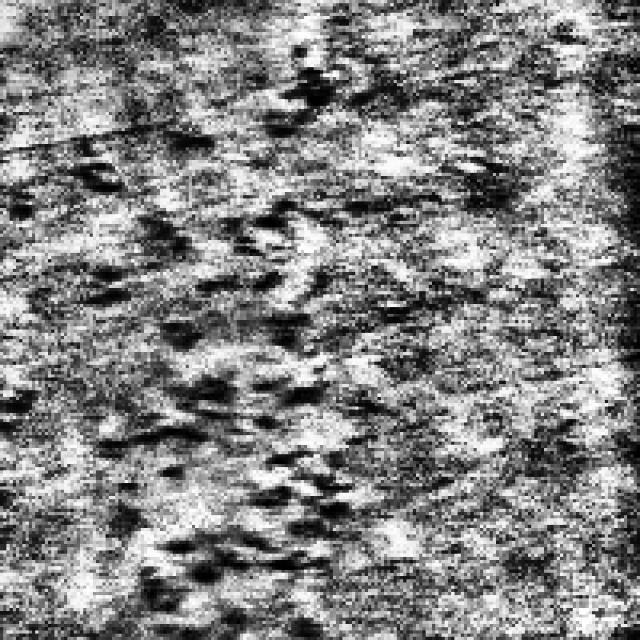Crazing: (96, 163, 333, 634), (163, 38, 330, 150)
